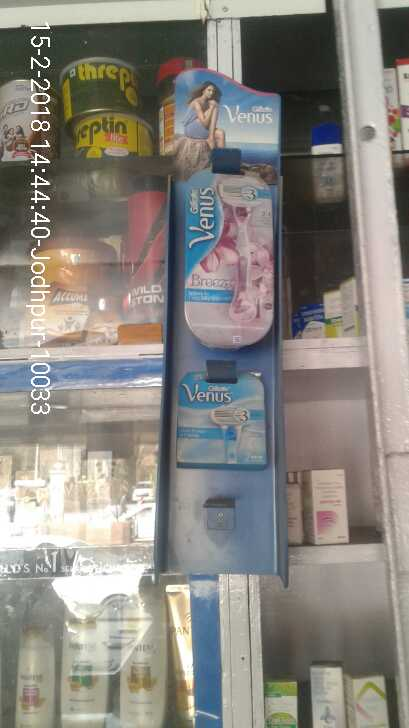venus: (179, 166, 282, 352), (174, 372, 274, 477)
